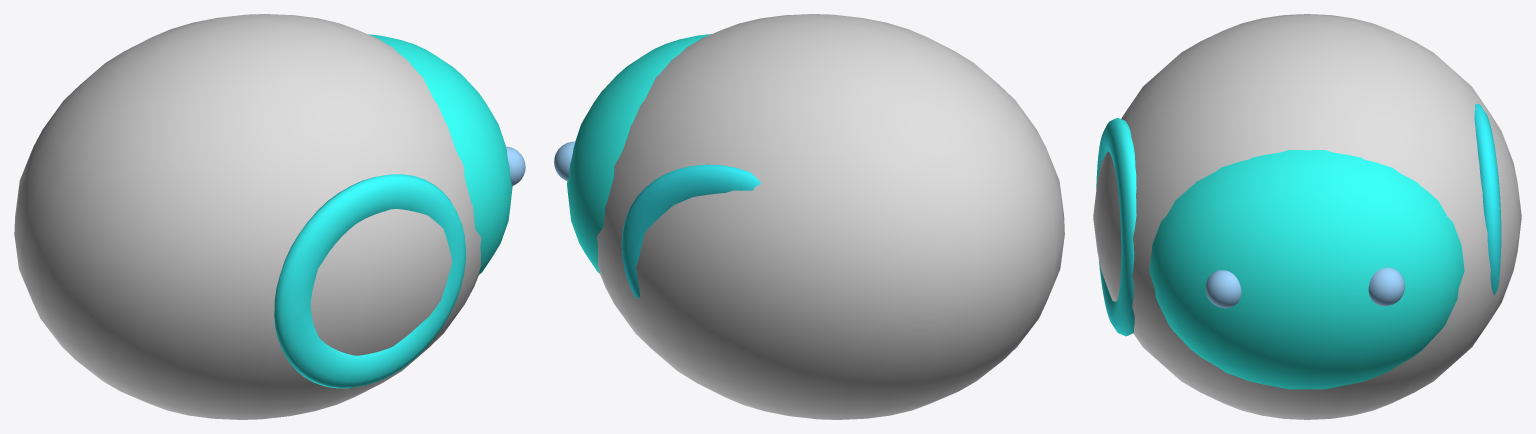
The model's file is guest.dae.
The picture shows the model from 3 angles, left to right: view 1: azimuth 30°, elevation 25°; view 2: azimuth 150°, elevation 25°; view 3: azimuth 270°, elevation 25°; orthographic projection. The views are drawn at different scales.
Parts seen in each view (by area): view 1: Sphere, Torus, Sphere_001, Sphere_002; view 2: Sphere, Sphere_001, Torus_001, Sphere_003; view 3: Sphere, Sphere_001, Torus, Torus_001, Sphere_003, Sphere_002.
Part boxes in pixels (box(x1,y1,x2,y2)): Sphere: box(14, 14, 481, 419); Torus: box(274, 174, 465, 388); Sphere_001: box(368, 34, 512, 275); Sphere_002: box(506, 146, 525, 185); Sphere: box(597, 14, 1064, 419); Sphere_001: box(567, 34, 711, 273); Torus_001: box(621, 164, 760, 298); Sphere_003: box(554, 141, 575, 180); Sphere: box(1093, 14, 1521, 419); Sphere_001: box(1149, 150, 1464, 389); Torus: box(1096, 118, 1136, 336); Torus_001: box(1474, 104, 1501, 295); Sphere_003: box(1368, 267, 1404, 306); Sphere_002: box(1205, 270, 1241, 308).
Size of the model in its own units: 0.7513 by 0.64 by 0.58.
